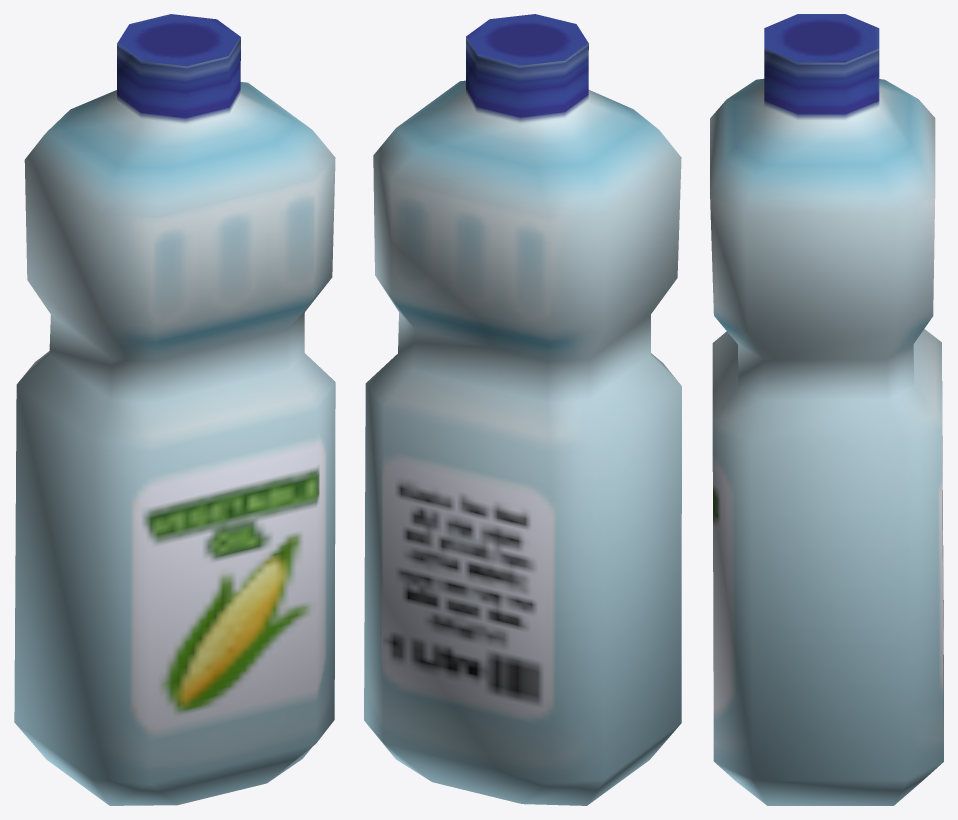
The model's file is OilVegWaterBottleSM.fbx.
3 views of the same model, side by side, from view 1: azimuth 30°, elevation 25°; view 2: azimuth 150°, elevation 25°; view 3: azimuth 270°, elevation 25° (orthographic).
Parts seen in each view (by area): view 1: OilVegetable; view 2: OilVegetable; view 3: OilVegetable.
Part boxes in pixels (x1,y1,x2,y2): OilVegetable: (14, 14, 335, 805); OilVegetable: (364, 14, 681, 805); OilVegetable: (710, 14, 943, 805).
Bounding box in the file's own units: 9.37 × 26.61 × 7.83.
